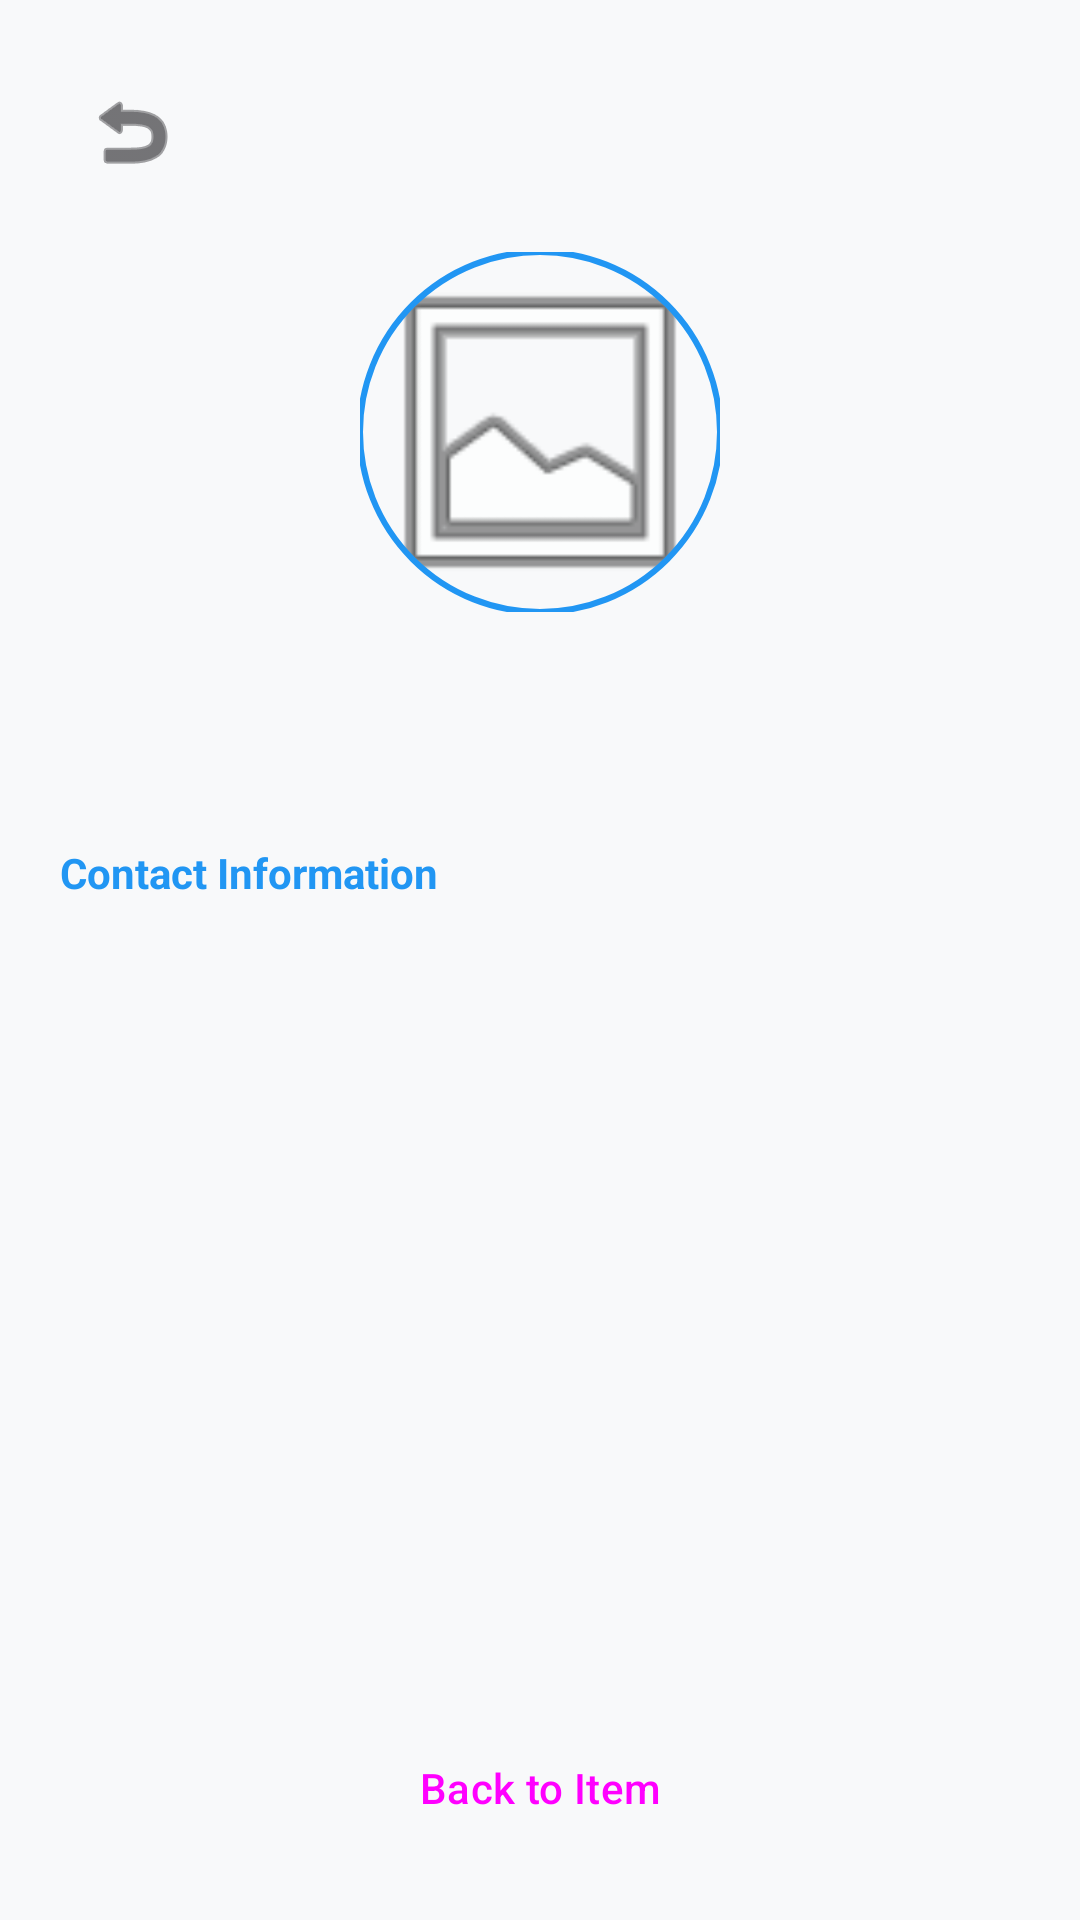

Screen size 1080px×1920px. Icon name, then its box in pixels as detection(x1, y1, x2, y2):
Back: detection(99, 101, 168, 164)
gallery: detection(360, 252, 720, 612)
